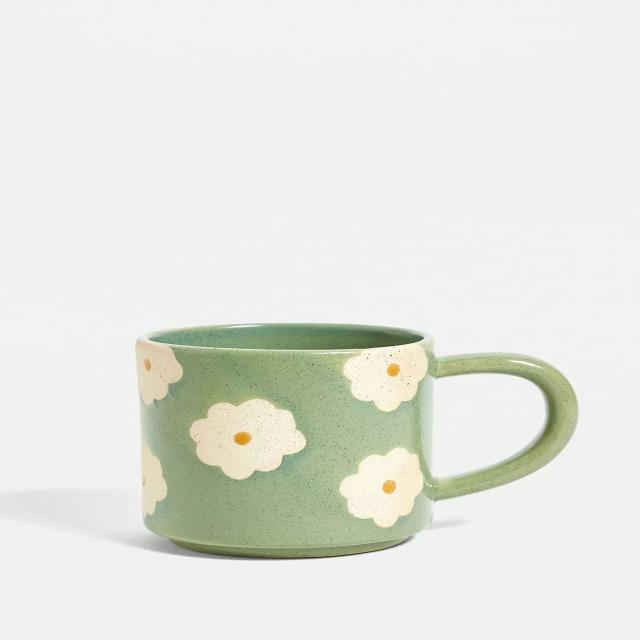glass cup: (134, 321, 576, 560)
